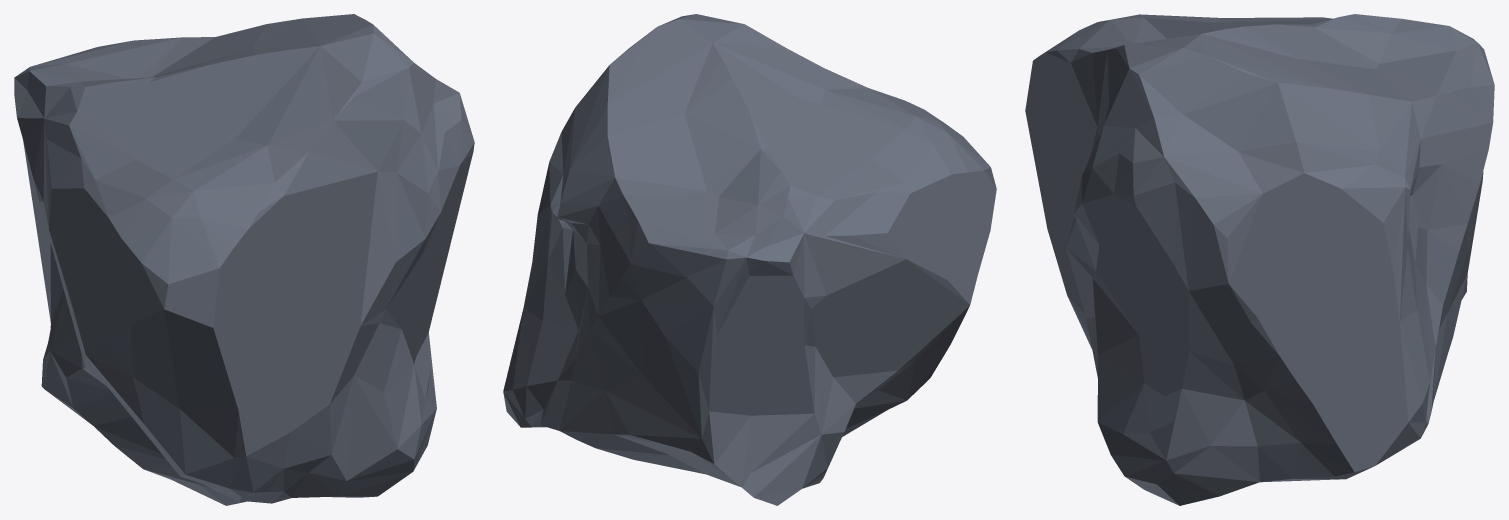
Rendered from stone1.fbx.
The picture shows the model from 3 angles, left to right: view 1: azimuth 30°, elevation 25°; view 2: azimuth 150°, elevation 25°; view 3: azimuth 270°, elevation 25°; orthographic projection. The views are drawn at different scales.
Parts seen in each view (by area): view 1: stone1; view 2: stone1; view 3: stone1.
Boxes of the visible parts, <box> form: stone1: <box>14,14,474,505</box>; stone1: <box>503,14,996,505</box>; stone1: <box>1025,14,1494,505</box>.
Size of the model in its own units: 151 by 163 by 152.
